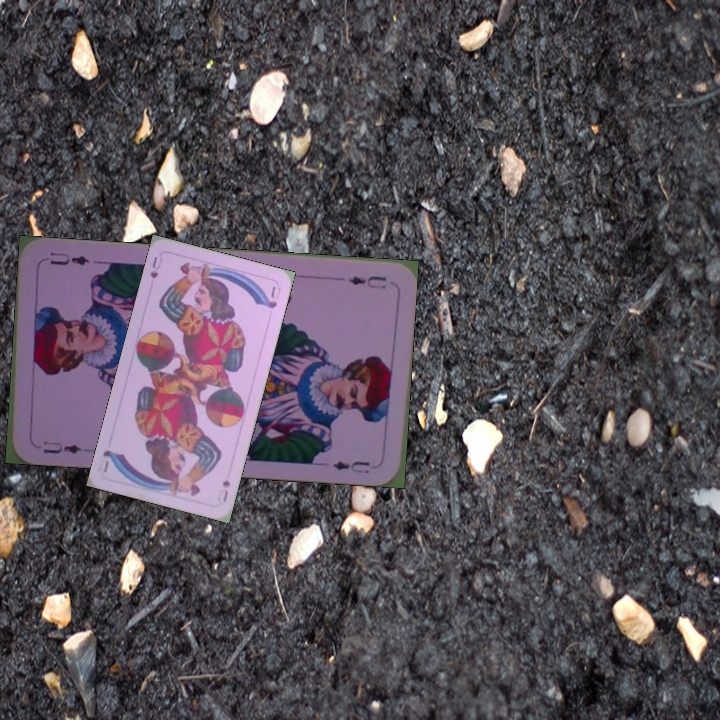EU: (344, 271, 389, 292), (39, 437, 84, 457)
SU: (213, 476, 233, 505), (146, 252, 165, 281)
